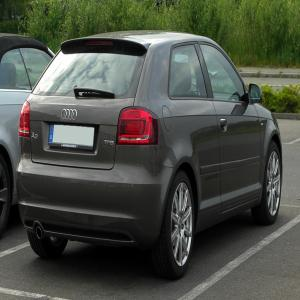Vehicle-registration-plate: (49, 125, 94, 152)
